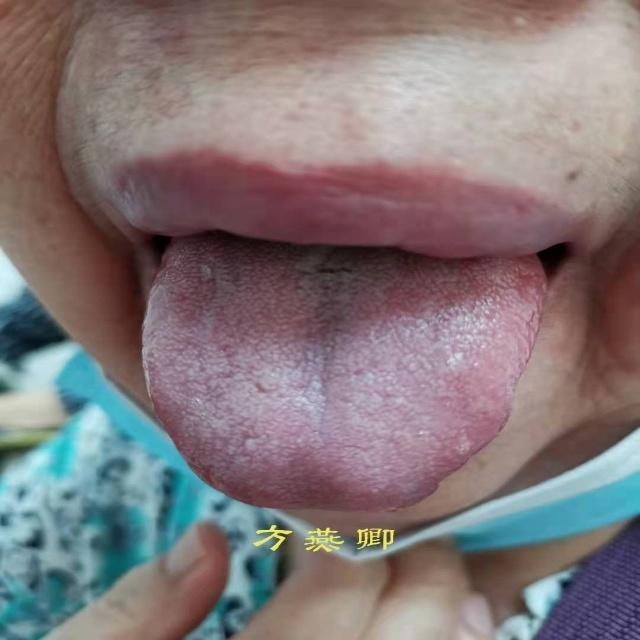baitaishe: (141, 259, 548, 512)
